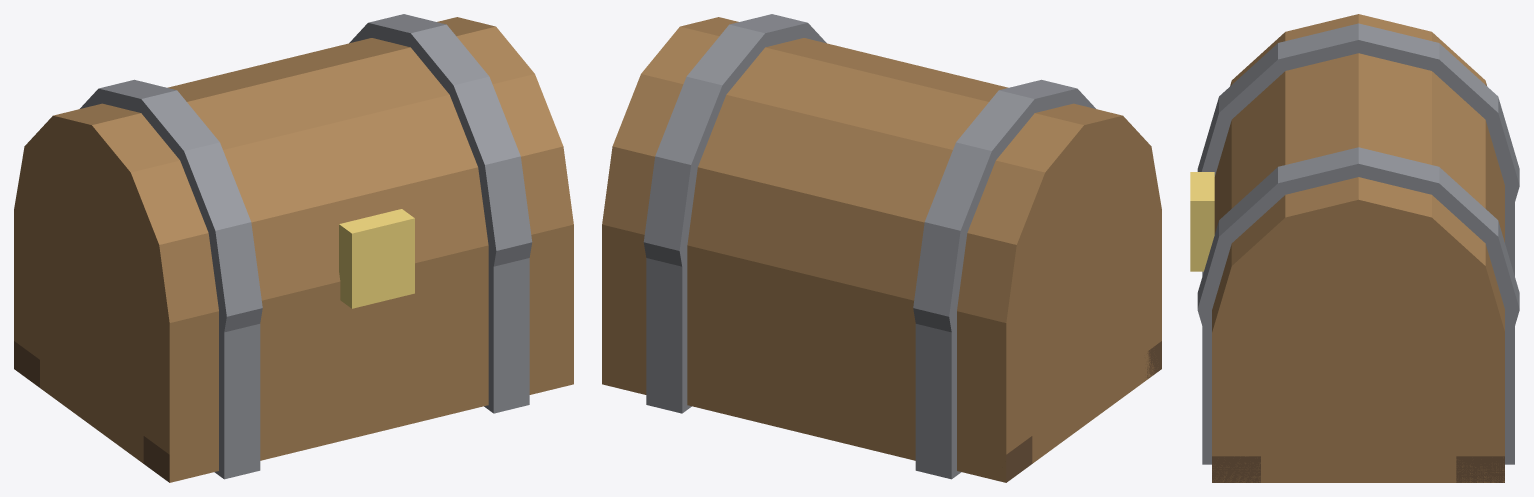
File: skrzynia.glb
The picture shows the model from 3 angles, left to right: view 1: azimuth 30°, elevation 25°; view 2: azimuth 150°, elevation 25°; view 3: azimuth 270°, elevation 25°; orthographic projection. The views are drawn at different scales.
Visible parts, largest first — view 1: pb_skrzynia; view 2: pb_skrzynia; view 3: pb_skrzynia.
Part boxes in pixels (<box>): pb_skrzynia: <box>14,14,573,482</box>; pb_skrzynia: <box>602,14,1161,482</box>; pb_skrzynia: <box>1190,14,1519,482</box>.
Bounding box in the file's own units: 0.9 × 0.68 × 0.675.
